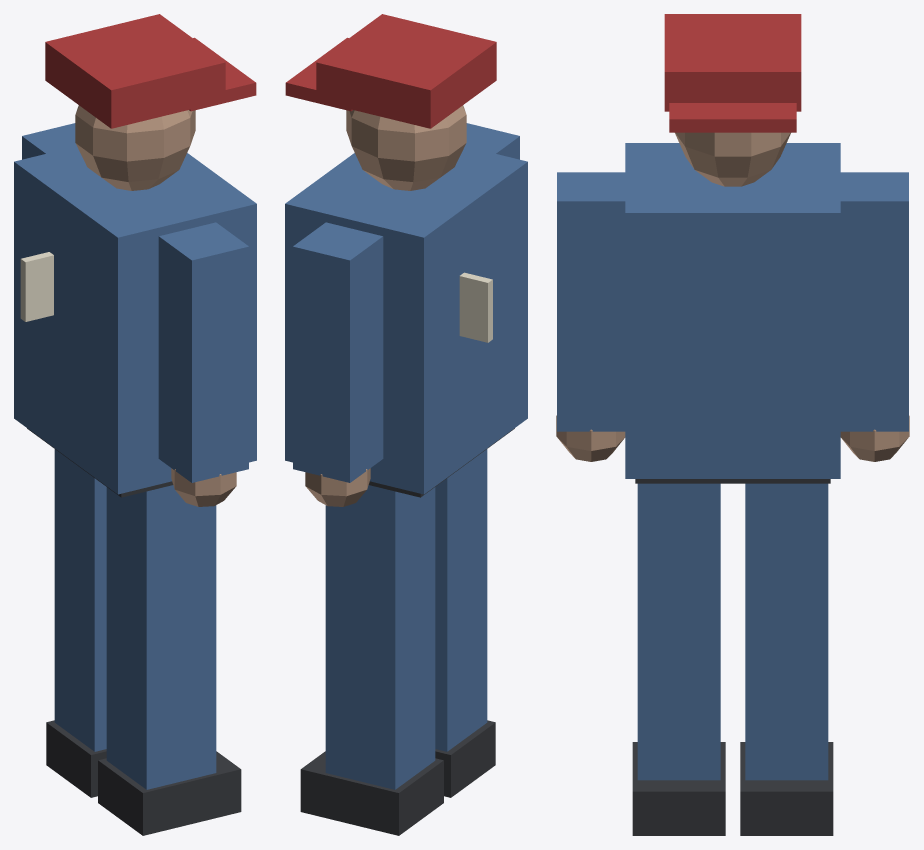
File: mechanic.glb
3 renders of one model, left to right at view 1: azimuth 30°, elevation 25°; view 2: azimuth 150°, elevation 25°; view 3: azimuth 270°, elevation 25°, orthographic. The views are drawn at different scales.
Parts seen in each view (by area): view 1: mechanic; view 2: mechanic; view 3: mechanic.
Part boxes in pixels (box(x1,y1,x2,y2)): mechanic: box(14, 14, 256, 835); mechanic: box(285, 14, 527, 835); mechanic: box(556, 14, 909, 835).
Bounding box in the file's own units: 0.46 × 1.72 × 0.7227.
